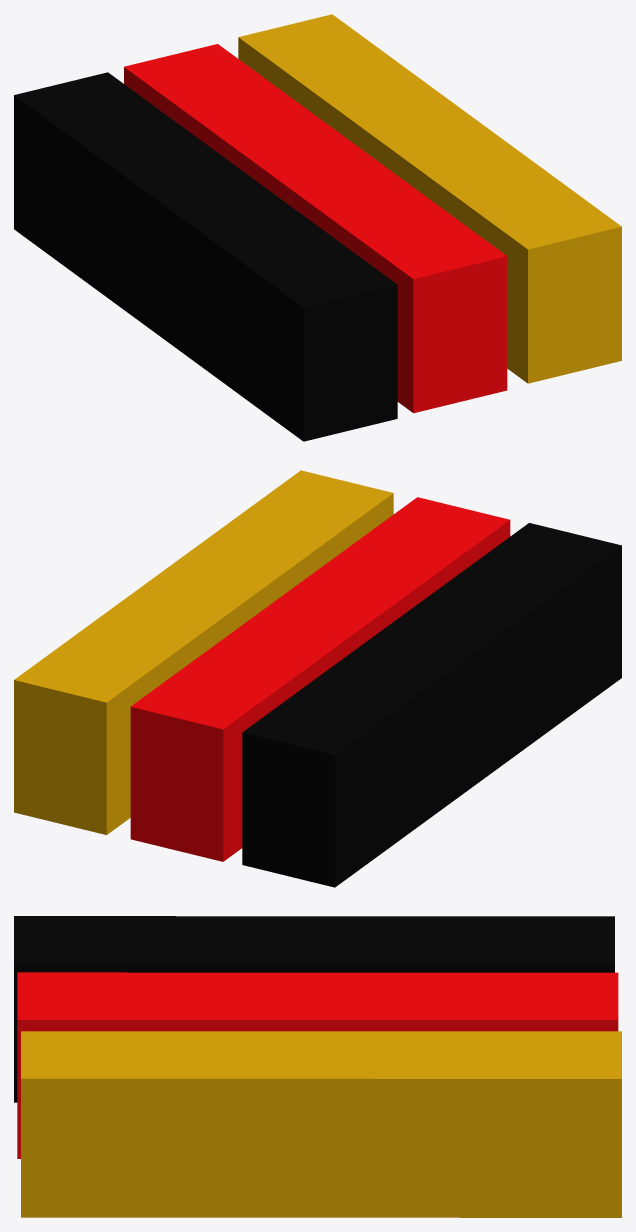
The model's file is germanFlag.gltf.
3 renders of one model, top to bottom at view 1: azimuth 30°, elevation 25°; view 2: azimuth 150°, elevation 25°; view 3: azimuth 270°, elevation 25°, orthographic. The views are drawn at different scales.
Visible parts, largest first — view 1: Cube.002, Cube, Cube.001; view 2: Cube.002, Cube, Cube.001; view 3: Cube, Cube.001, Cube.002.
Boxes of the visible parts, x1,y1,x2,y2 form: Cube.002: (14,72,397,441); Cube: (238,14,621,383); Cube.001: (124,44,507,413); Cube.002: (242,523,621,887); Cube: (14,470,393,834); Cube.001: (130,497,510,861); Cube: (21,1031,621,1217); Cube.001: (17,972,618,1158); Cube.002: (14,916,614,1102).
Size of the model in its own units: 5.02 by 2 by 7.93.
